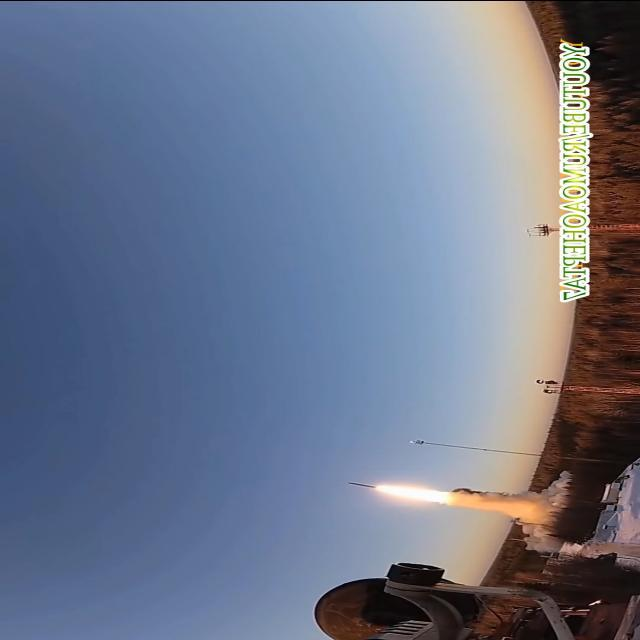Missile: (338, 480, 382, 490)
